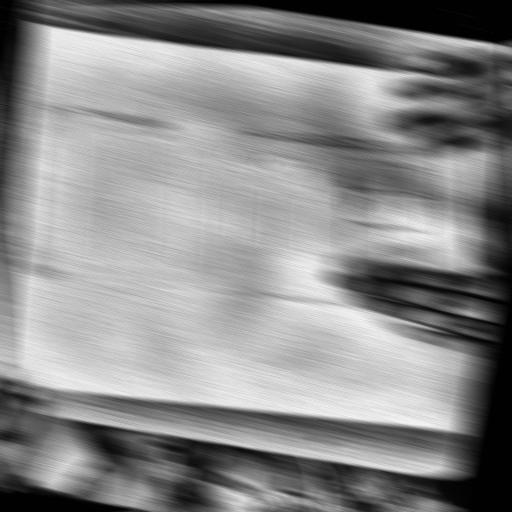bottom_right: (454, 72, 475, 82)
door: (16, 100, 474, 320)
top_left: (0, 377, 17, 386)
top_right: (25, 19, 45, 28)
